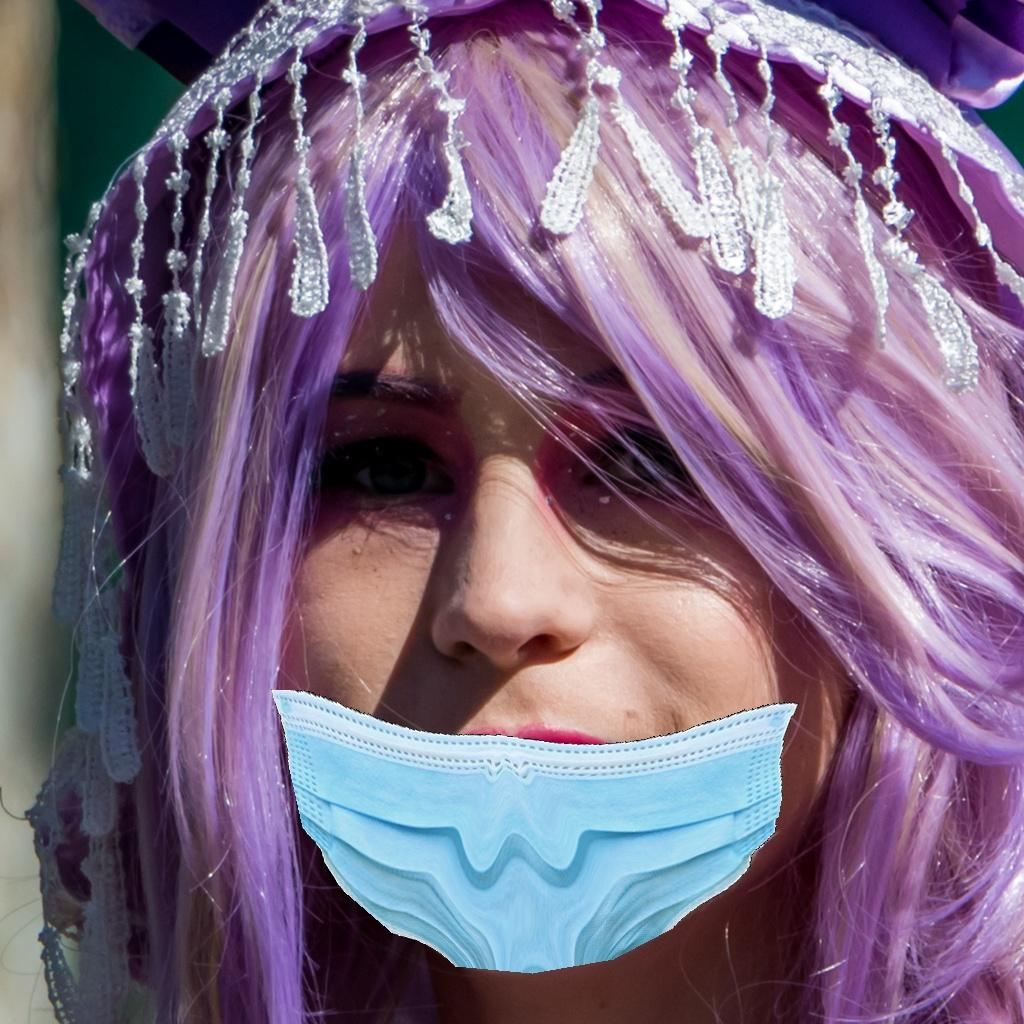Máscara Incorreta: (227, 302, 824, 956)
